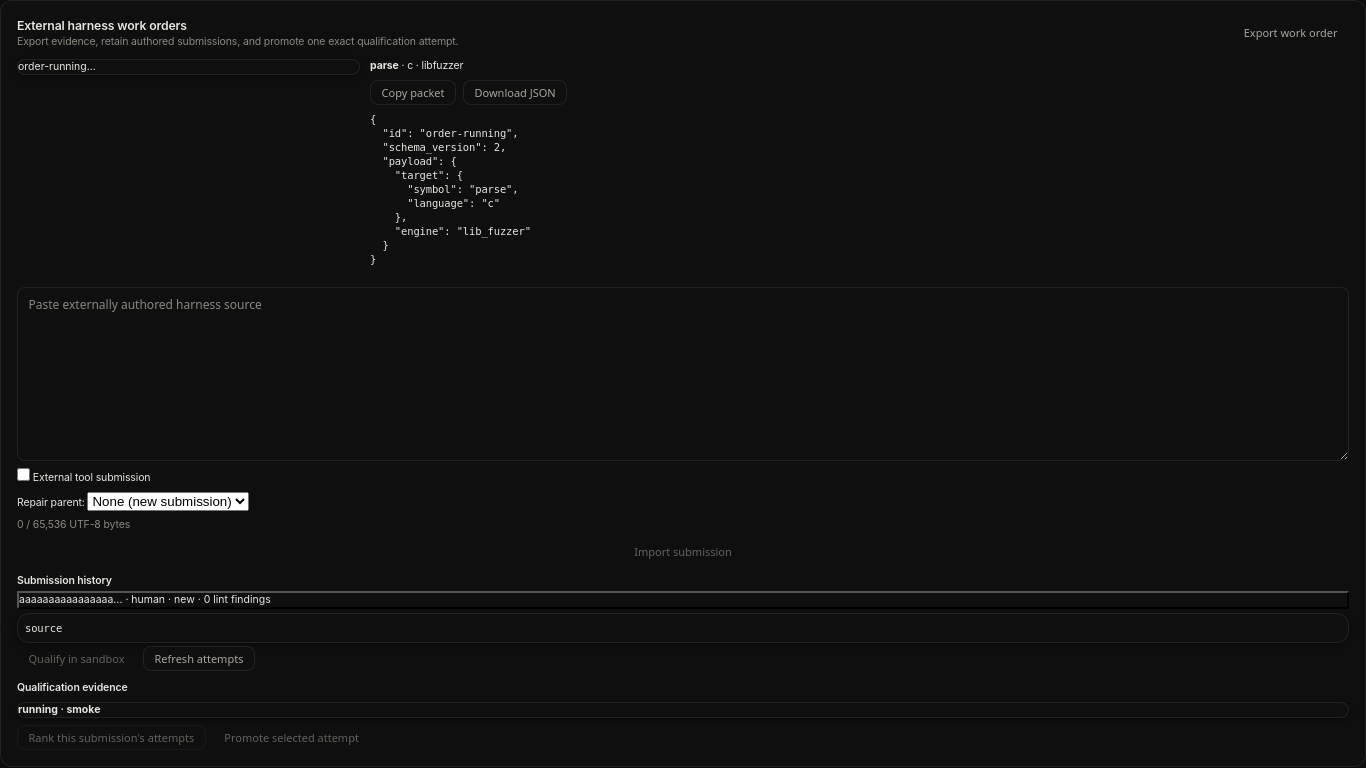
it: expert workflow panels › reopens a running qualification from retained state and refreshes it to terminal
Check: the button "Qualify in sandbox" is disabled, box [17,646,136,671]
Click the button "Refresh attempts" at (199, 659), box [143,646,255,671]
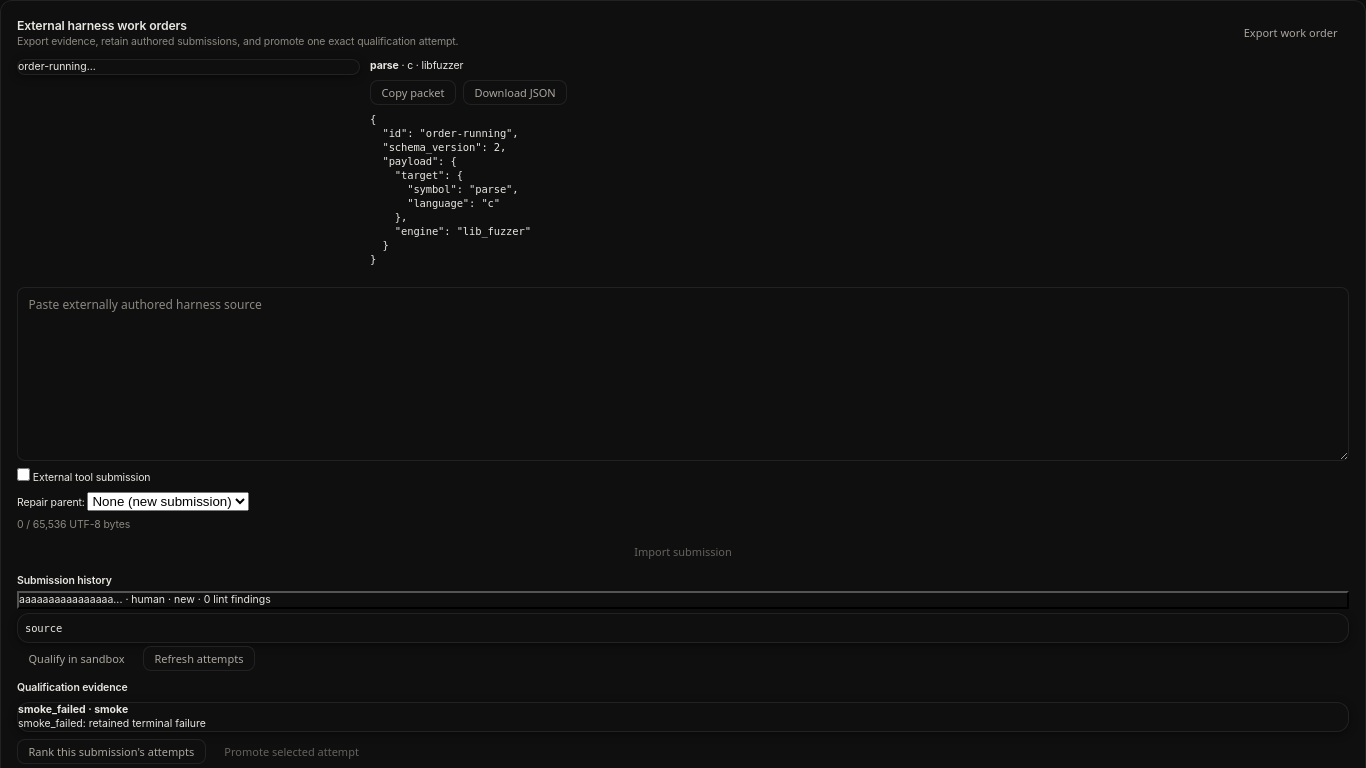
Check: the text "retained terminal failure" is shown, box [17,702,1349,732]
Check: the button "Qualify in sandbox" is enabled, box [17,646,136,671]
